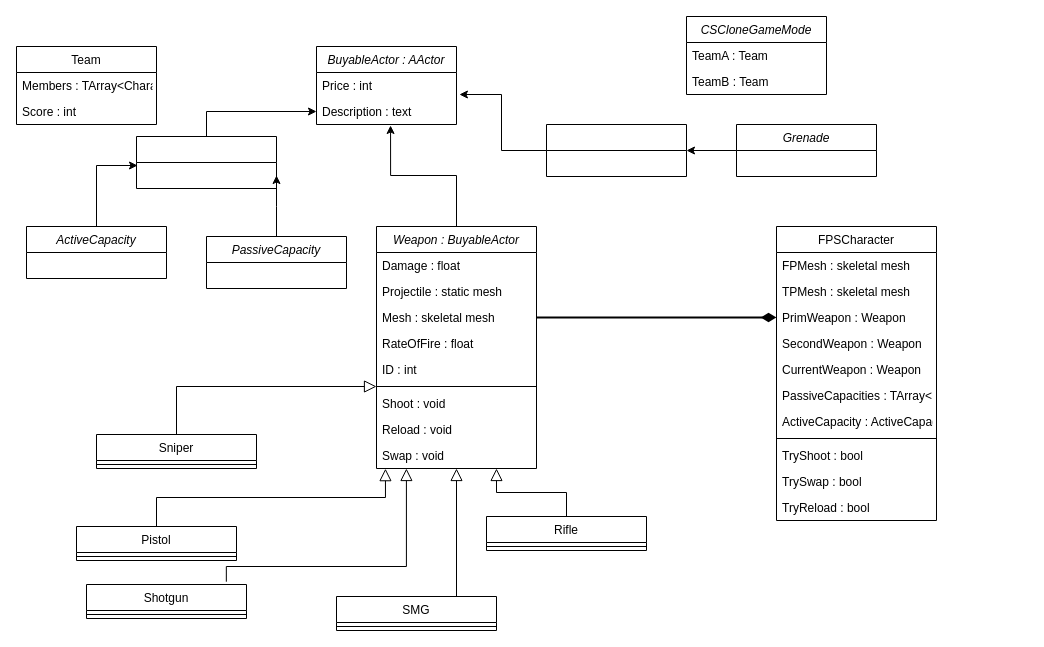
Some shapes in this 1044 by 647 pixel diagram are drawn without their labels. Here are the shapes that lost their labels. From the top down, the centre of each, then its label:
At pixel 206 162: "Capacity".
At pixel 616 150: "Gadget".
